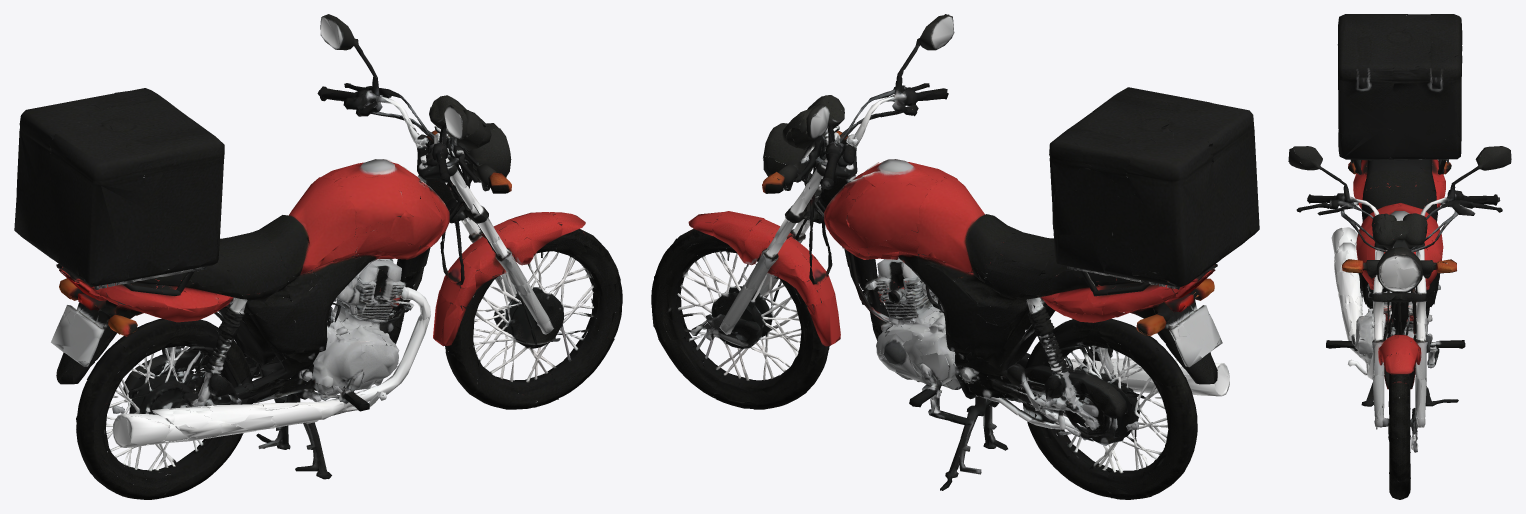
Rendered from moto-entrega-150__01a16c1b.glb.
The picture shows the model from 3 angles, left to right: view 1: azimuth 30°, elevation 25°; view 2: azimuth 150°, elevation 25°; view 3: azimuth 270°, elevation 25°; orthographic projection. The views are drawn at different scales.
Parts seen in each view (by area): view 1: moto-entrega-150; view 2: moto-entrega-150; view 3: moto-entrega-150.
Part boxes in pixels (x1,y1,x2,y2): moto-entrega-150: [14, 14, 622, 499]; moto-entrega-150: [651, 14, 1259, 499]; moto-entrega-150: [1288, 14, 1511, 499].
Bounding box in the file's own units: 2.05 × 1.33 × 0.8937.
1 material, 1 textured.
